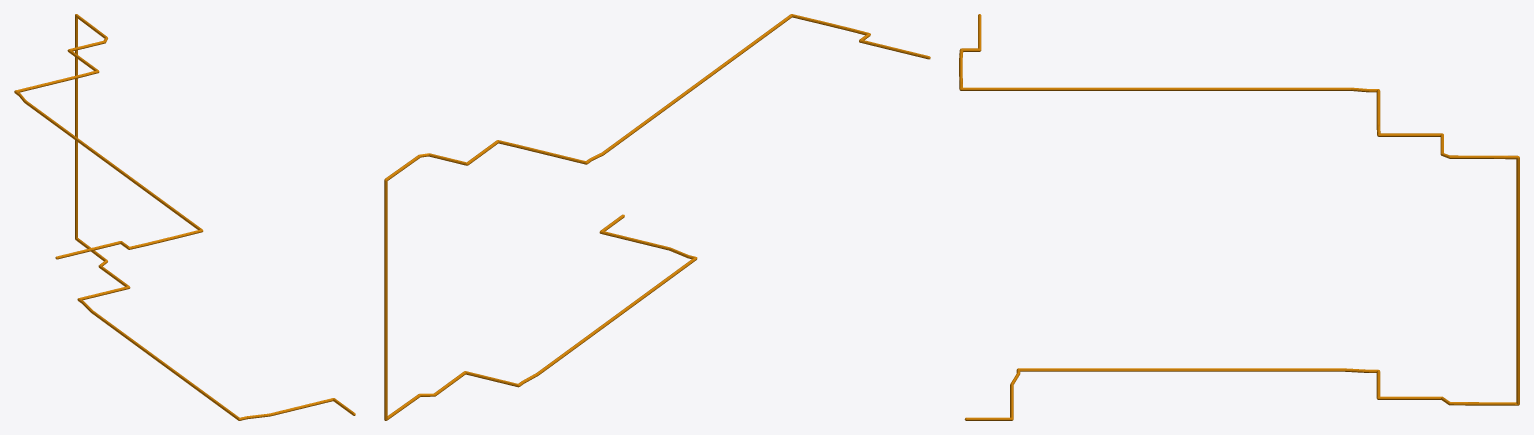
The picture shows the model from 3 angles, left to right: view 1: azimuth 30°, elevation 25°; view 2: azimuth 150°, elevation 25°; view 3: azimuth 270°, elevation 25°; orthographic projection. The views are drawn at different scales.
Size of the model in its own units: 2069 by 1520 by 3092.
